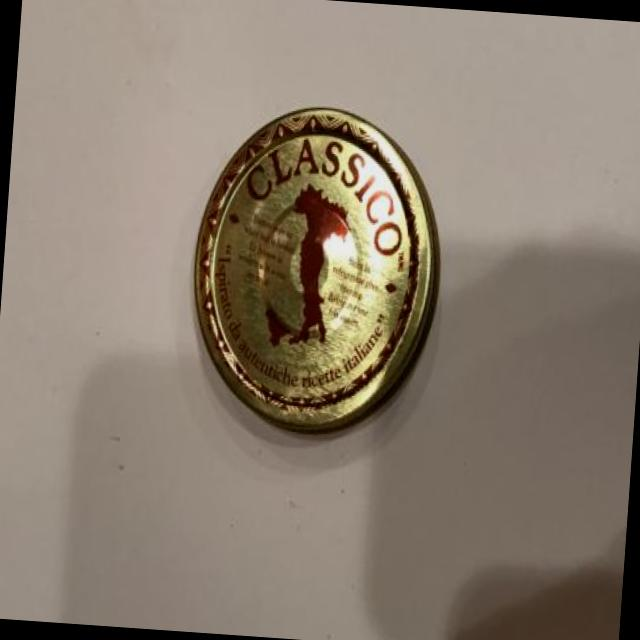kim_loai: (194, 107, 441, 432)
